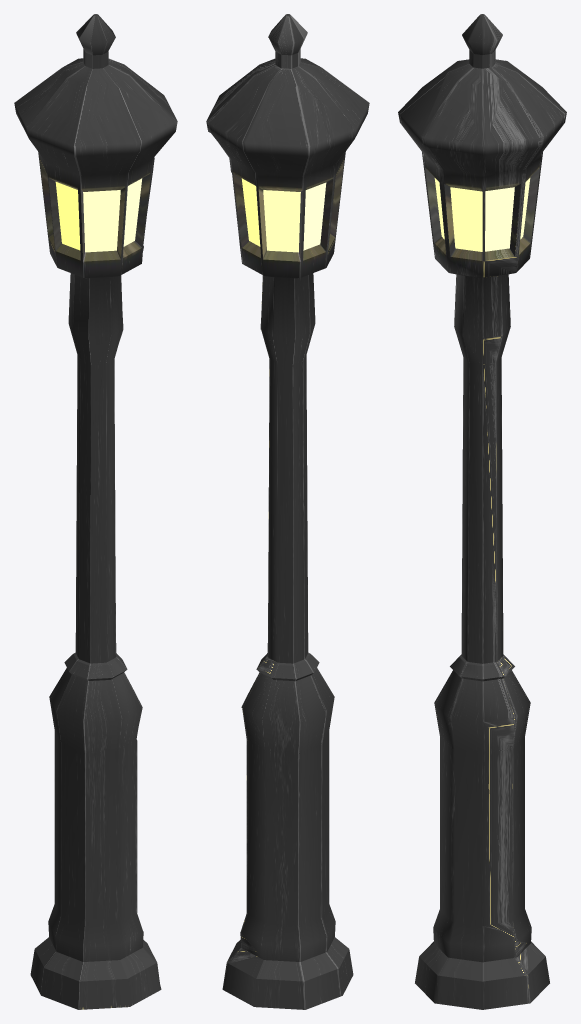
File: farolaPrueba.glb
The picture shows the model from 3 angles, left to right: view 1: azimuth 30°, elevation 25°; view 2: azimuth 150°, elevation 25°; view 3: azimuth 270°, elevation 25°; orthographic projection.
Size of the model in its own units: 1.38 by 9.31 by 1.47.
Materials: 2 (1 with a texture image).
